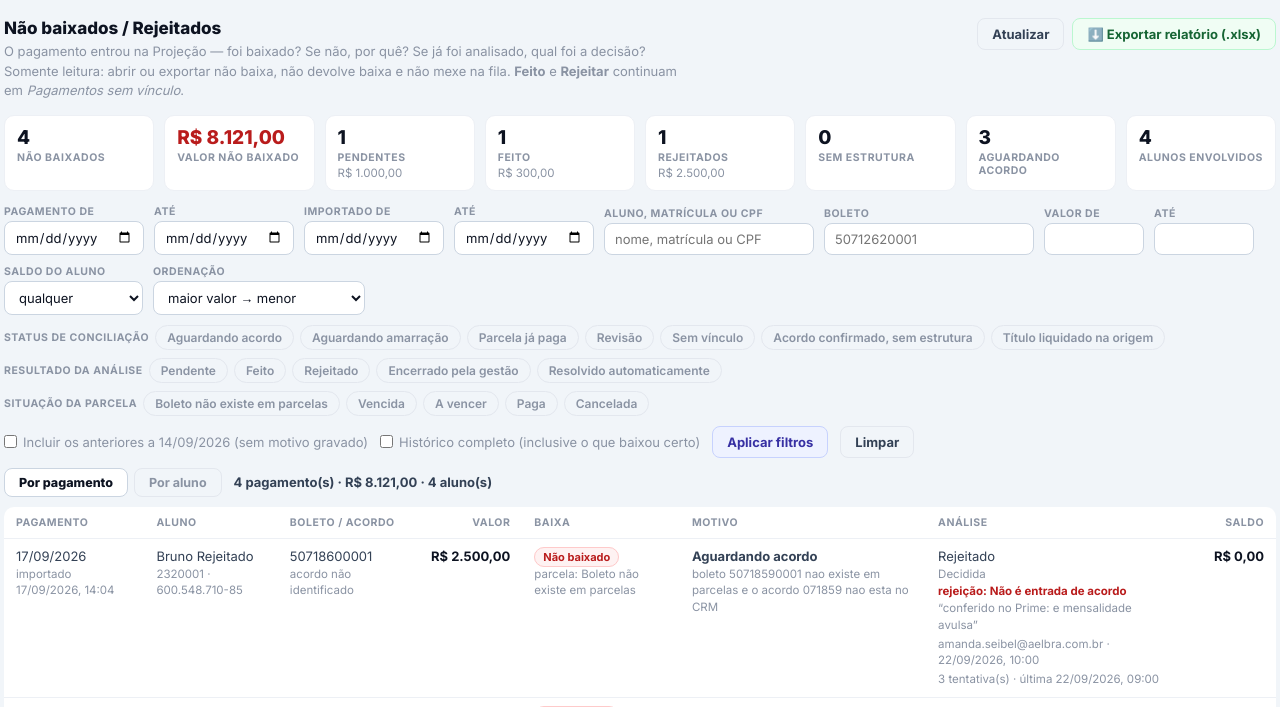
Test case: contadores e visao por aluno › a visao por aluno abre os pagamentos do aluno
What coordinates should you click on to do the following:
click the button "Por aluno"
I would click on:
 (178, 482)
Its box is 134,468 -> 222,496.
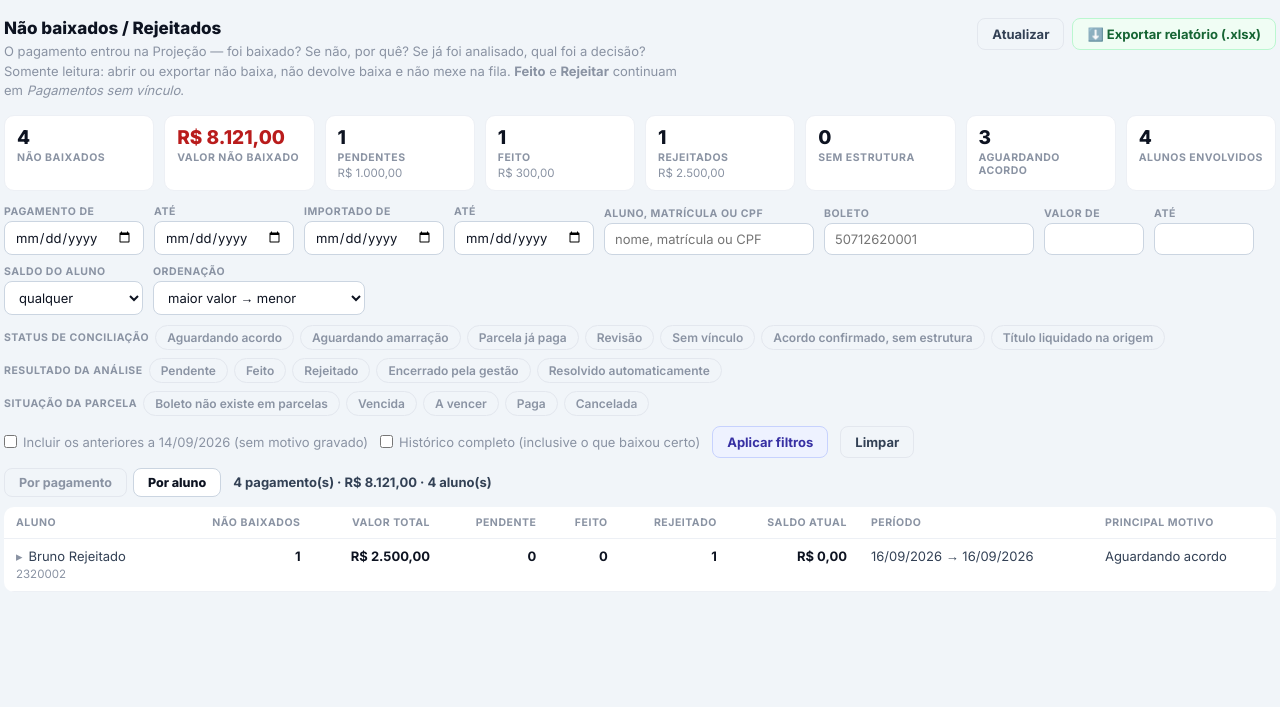
expect the text "boleto 50718600001" is not shown: met
What coordinates should you click on to do the following:
click the text "Bruno Rejeitado"
I would click on:
 (88, 565)
Its box is 4,538 -> 172,592.
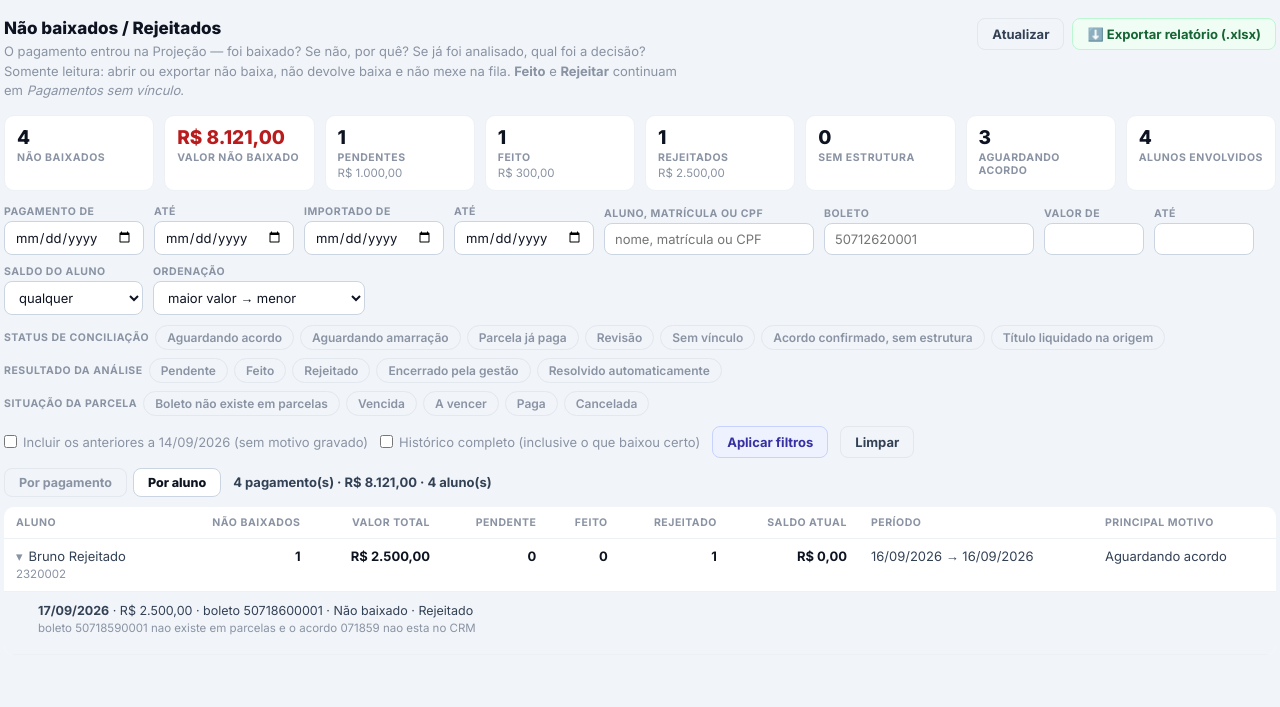
expect the text "boleto 50718600001" is shown: met, box 38,603 -> 476,635
